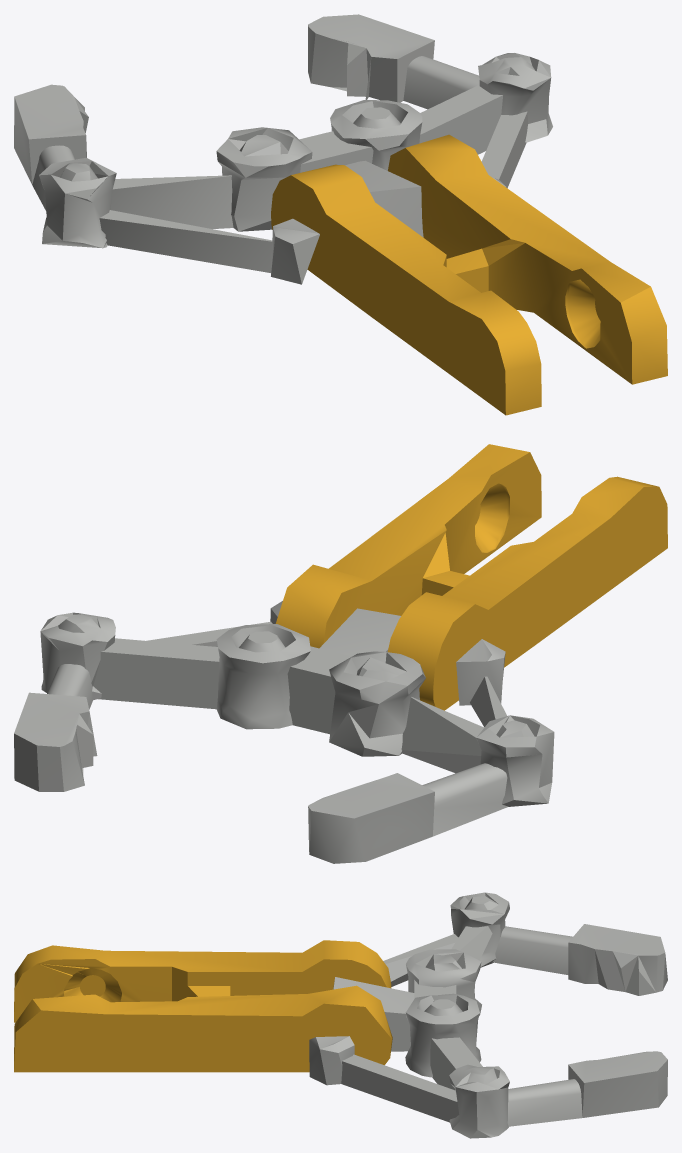
File: inserter-arm-bulk-hand-closed.glb
The picture shows the model from 3 angles, top to bottom: view 1: azimuth 30°, elevation 25°; view 2: azimuth 150°, elevation 25°; view 3: azimuth 270°, elevation 25°; orthographic projection. The views are drawn at different scales.
Parts seen in each view (by area): view 1: body; view 2: body; view 3: body.
Boxes of the visible parts, left/top/right/bottom form: body: left=14, top=14, right=667, bottom=415; body: left=14, top=444, right=667, bottom=863; body: left=14, top=892, right=667, bottom=1138.
Size of the model in its own units: 0.6839 by 0.1105 by 0.9558.
